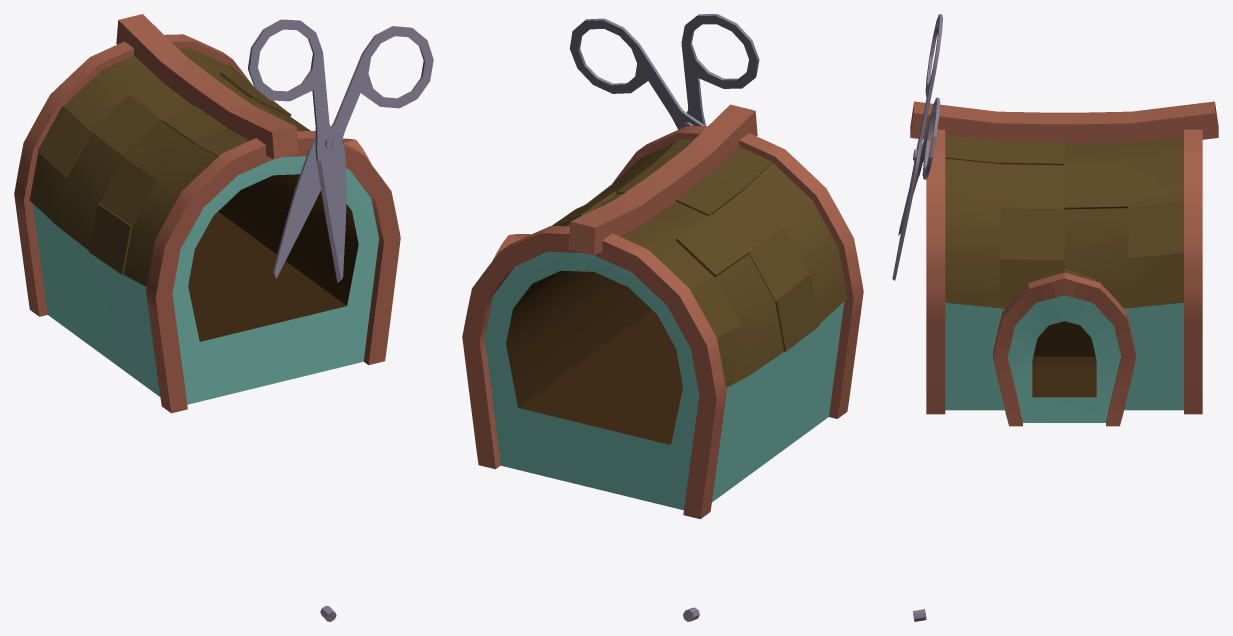
Rendered from Scher-Maschine.fbx.
The picture shows the model from 3 angles, left to right: view 1: azimuth 30°, elevation 25°; view 2: azimuth 150°, elevation 25°; view 3: azimuth 270°, elevation 25°; orthographic projection. The views are drawn at different scales.
Parts seen in each view (by area): view 1: Cube.001, Schere A, Schere B; view 2: Cube.001, Schere B, Schere A; view 3: Cube.001, Schere A, Schere B.
Part boxes in pixels (x1,y1,x2,y2): Cube.001: [14, 14, 400, 413]; Schere A: [248, 19, 346, 282]; Schere B: [273, 26, 433, 278]; Cube.001: [462, 104, 863, 519]; Schere B: [569, 18, 704, 129]; Schere A: [681, 14, 759, 125]; Cube.001: [910, 101, 1218, 426]; Schere A: [892, 14, 942, 280]; Schere B: [898, 97, 940, 235].
Size of the model in its own units: 190 by 385 by 194.
